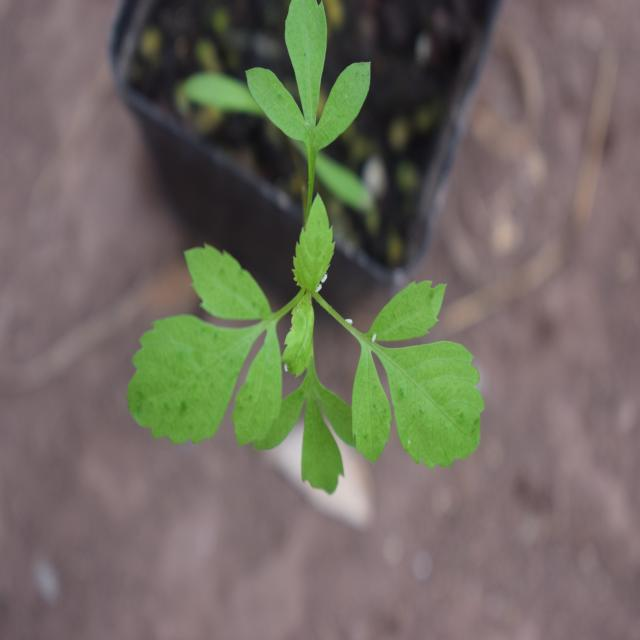Bidens pilosa: (132, 0, 491, 496)
